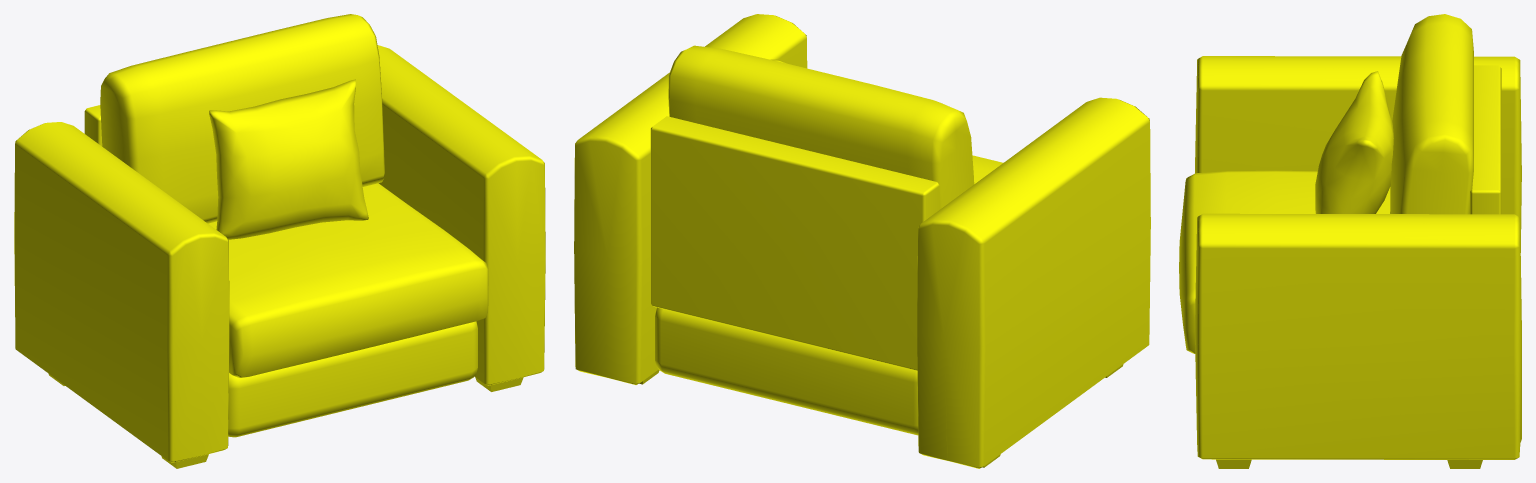
3 views of the same model, side by side, from view 1: azimuth 30°, elevation 25°; view 2: azimuth 150°, elevation 25°; view 3: azimuth 270°, elevation 25° (orthographic). The views are drawn at different scales.
Visible parts, largest first — view 1: chair_02; view 2: chair_02; view 3: chair_02.
Boxes of the visible parts, x1,y1,x2,y2 form: chair_02: (14,14,545,468); chair_02: (574,14,1150,468); chair_02: (1179,14,1521,468).
Bounding box in the file's own units: 0.0167 × 0.0128 × 0.0128.
1 material, 1 textured.
